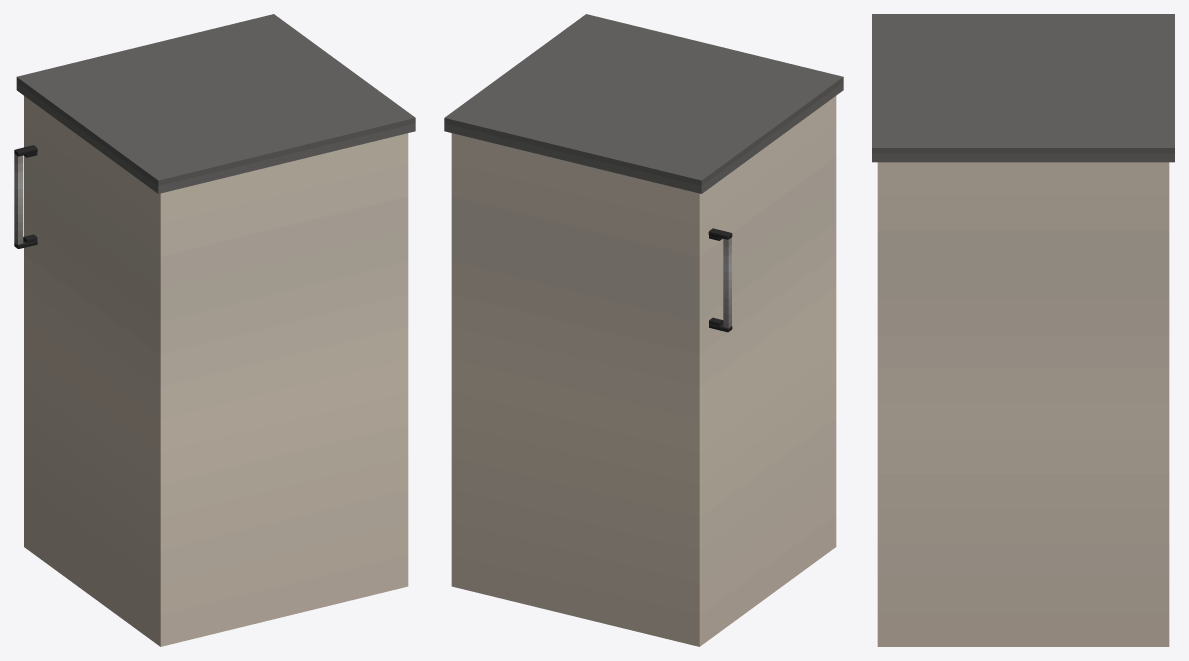
File: fridge.fbx
3 views of the same model, side by side, from view 1: azimuth 30°, elevation 25°; view 2: azimuth 150°, elevation 25°; view 3: azimuth 270°, elevation 25° (orthographic). The views are drawn at different scales.
Visible parts, largest first — view 1: fridge; view 2: fridge; view 3: fridge.
Boxes of the visible parts, x1,y1,x2,y2 form: fridge: (14, 14, 415, 646); fridge: (444, 14, 843, 646); fridge: (872, 14, 1174, 646).
Bounding box in the file's own units: 129 × 212 × 116.
